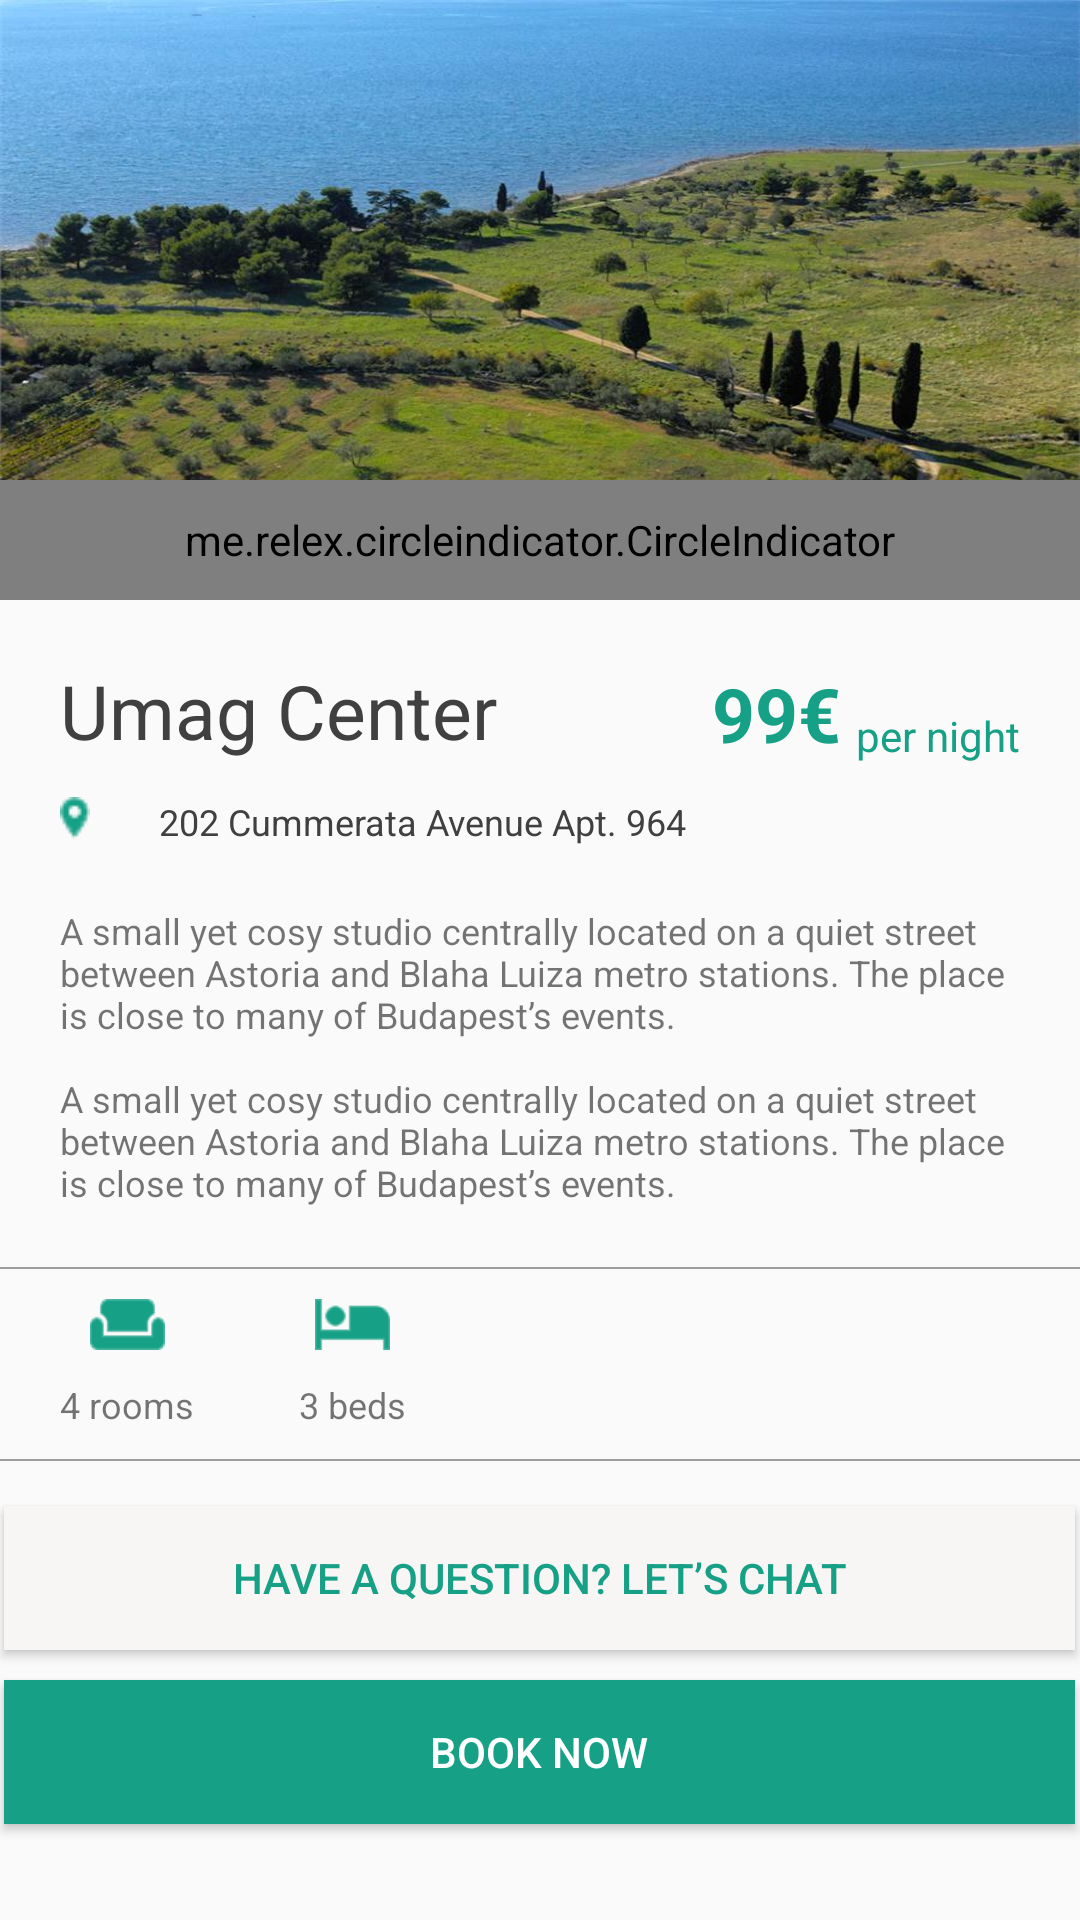

Where icons sit on this 1080px x 1920px app screen, as (left=x1, top=y1, right=x2, bottom=y2):
where: (left=60, top=797, right=90, bottom=839)
